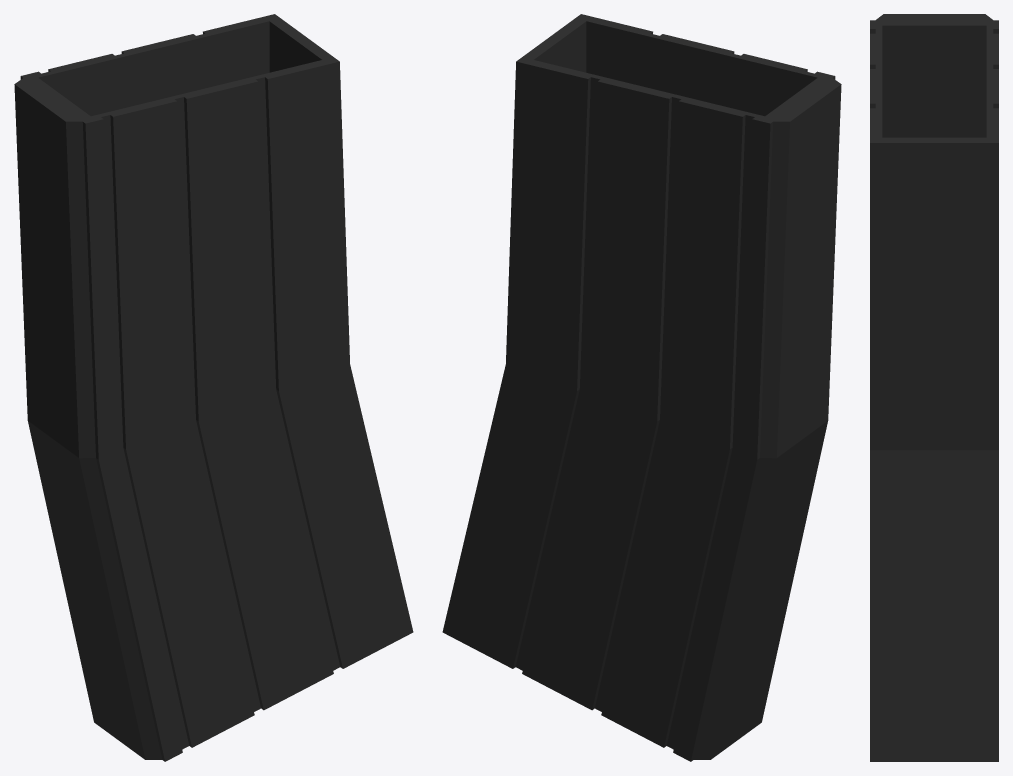
File: AssaultRifle6_04_2.fbx
3 renders of one model, left to right at view 1: azimuth 30°, elevation 25°; view 2: azimuth 150°, elevation 25°; view 3: azimuth 270°, elevation 25°, orthographic.
Visible parts, largest first — view 1: AssaultRifle6_04_2; view 2: AssaultRifle6_04_2; view 3: AssaultRifle6_04_2.
Boxes of the visible parts, bbox=[...] form: AssaultRifle6_04_2: bbox=[14, 14, 413, 761]; AssaultRifle6_04_2: bbox=[442, 14, 841, 761]; AssaultRifle6_04_2: bbox=[870, 14, 998, 761].
Size of the model in its own units: 0.0911 by 0.168 by 0.0301.
